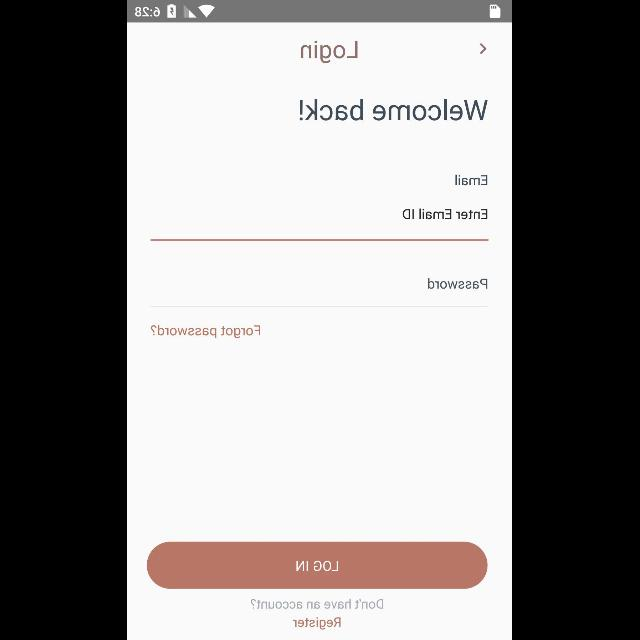icon: (480, 44, 488, 54)
input: (151, 208, 489, 242), (151, 278, 489, 308)
text: (300, 99, 488, 121), (252, 598, 384, 610), (152, 325, 260, 339), (302, 41, 358, 64), (404, 208, 488, 220), (428, 278, 488, 290), (294, 616, 342, 630), (456, 174, 488, 186)
textbutton: (148, 542, 488, 588)
uppertaskbar: (128, 1, 512, 23)
